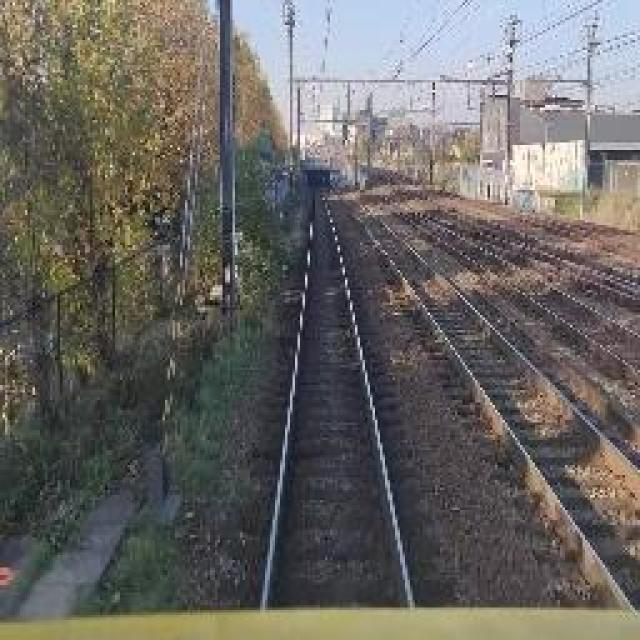rail: (238, 187, 445, 611)
